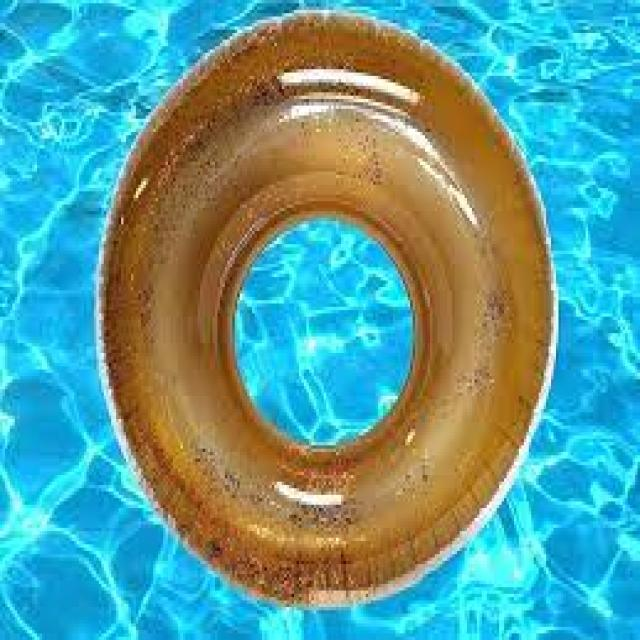litter: (100, 14, 556, 595)
